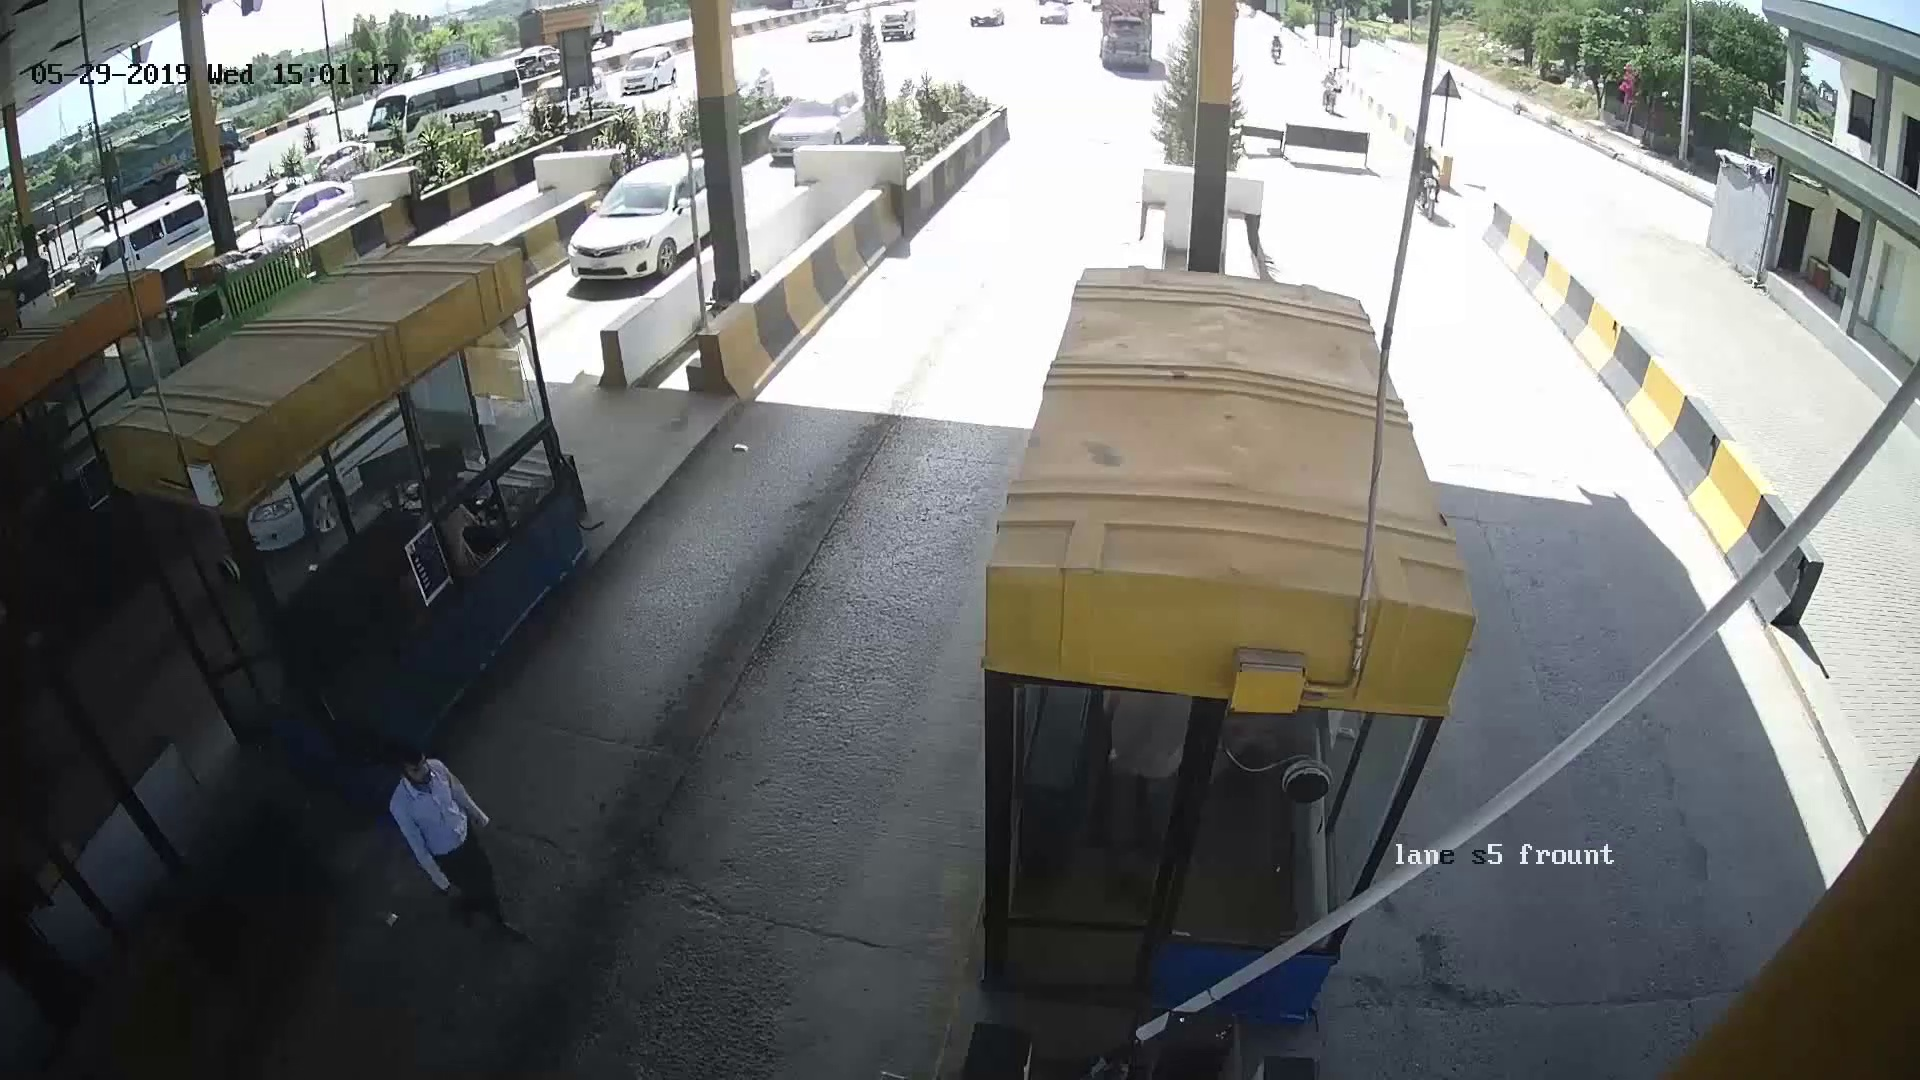truck: (1084, 7, 1171, 87)
